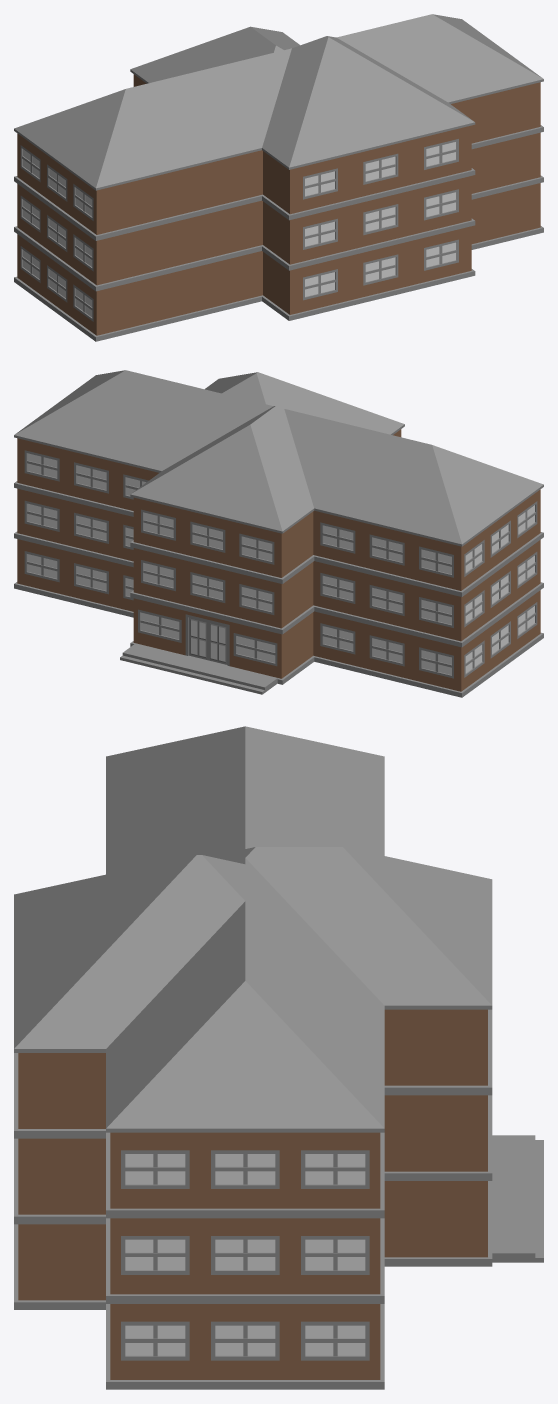
File: Business building 6.fbx
3 views of the same model, one above another, from view 1: azimuth 30°, elevation 25°; view 2: azimuth 150°, elevation 25°; view 3: azimuth 270°, elevation 25° (orthographic). The views are drawn at different scales.
Visible parts, largest first — view 1: building_001; view 2: building_001; view 3: building_001.
Boxes of the visible parts, x1,y1,x2,y2 form: building_001: (14, 14, 543, 341); building_001: (14, 370, 543, 697); building_001: (14, 726, 543, 1389).
Size of the model in its own units: 2048 by 970 by 1233.
